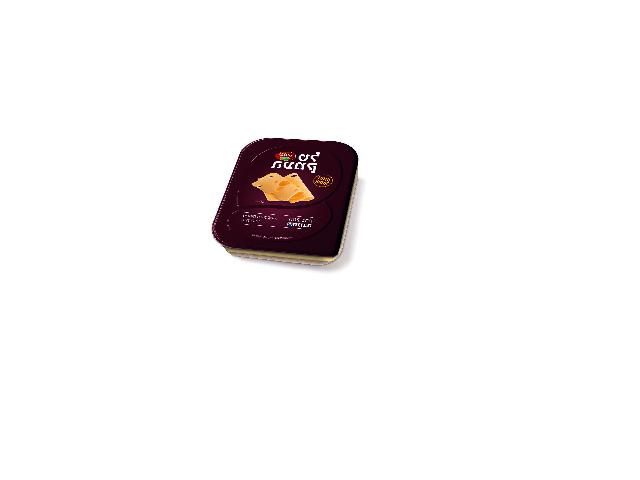cheese: (211, 136, 358, 264)
